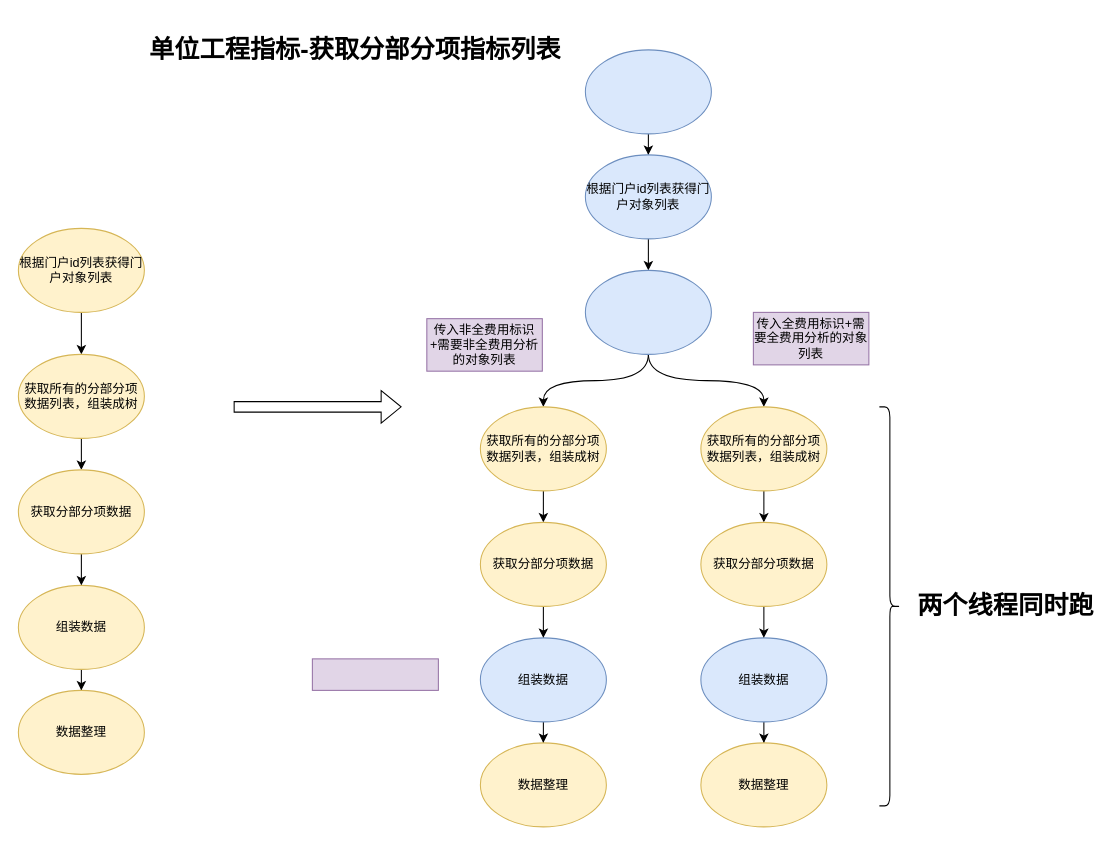
Some shapes in this 1112 by 845 pixel diagram are drawn without their labels. The shapes that lost their labels are listed below. From the top down, each one's box as (x1, y1, x2, y2) in pixels, then its label:
(584, 49, 711, 134): 根据门户id列表查到对应指标加工任务id判断是否全费用
(584, 269, 711, 354): 设置表头对比项名称个数
(311, 658, 438, 690): 取值时判断一下费用标识来取字段
